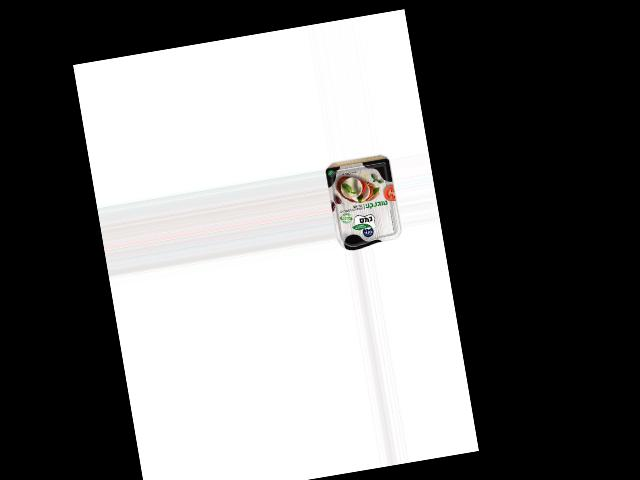cheese: (325, 157, 403, 251)
